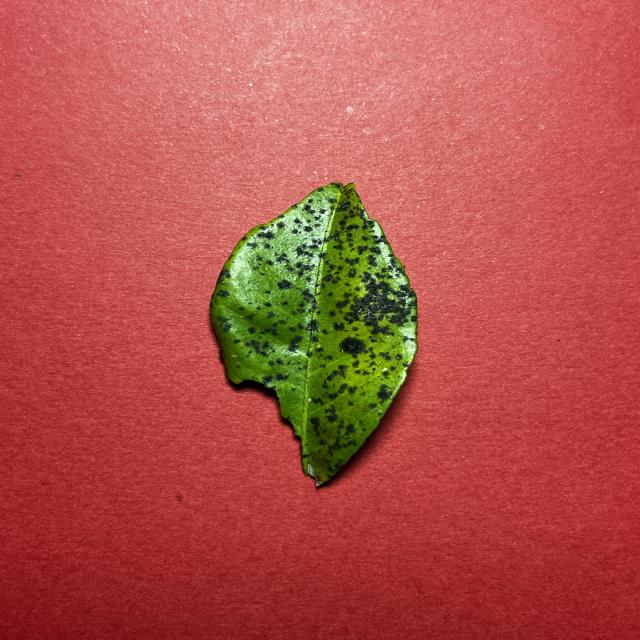sooty_mold: (210, 182, 417, 480)
